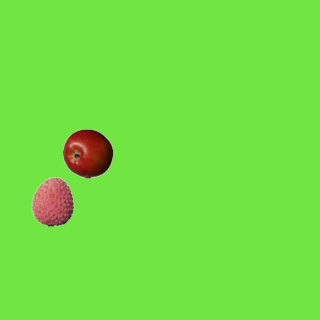Apple Braeburn: (62, 128, 112, 178)
Lychee: (27, 176, 77, 226)
